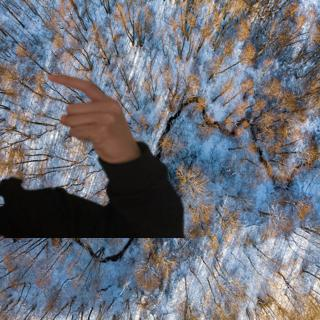WHY: (41, 66, 137, 162)
